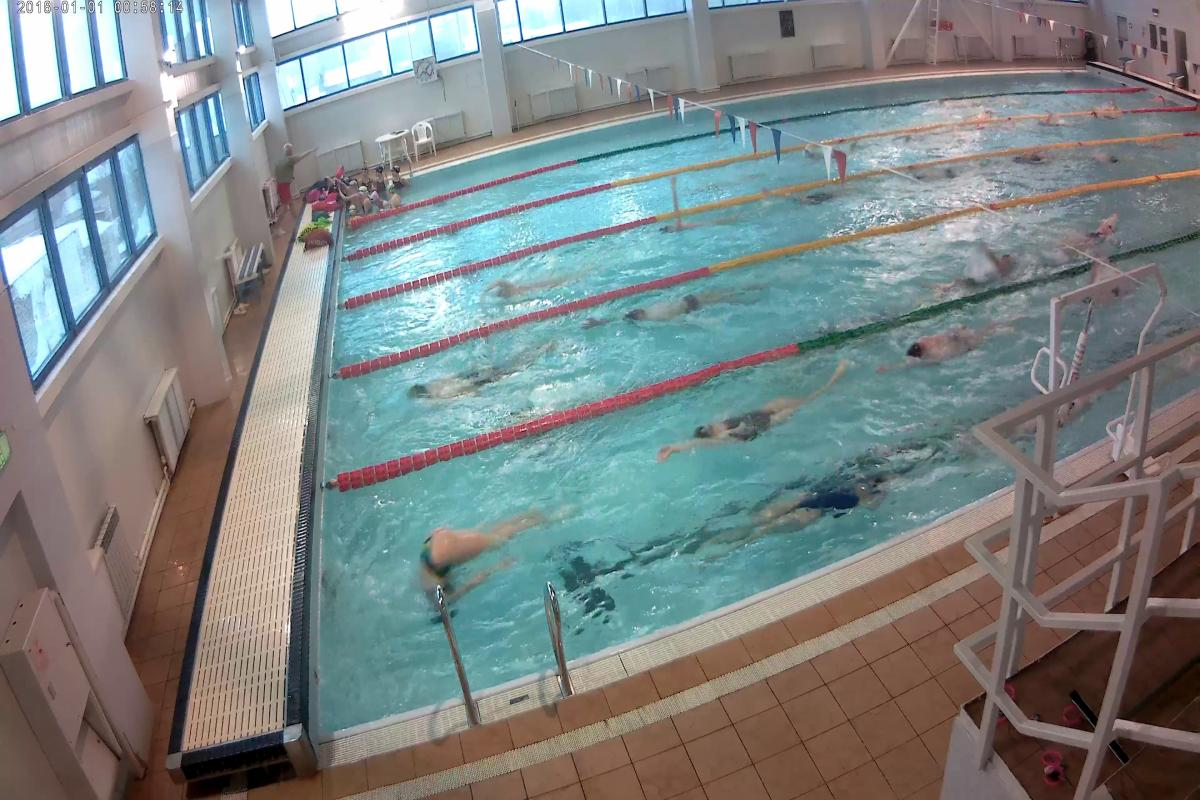swimmer: (652, 375, 851, 456), (749, 469, 920, 551), (402, 510, 538, 604), (894, 310, 1020, 369), (416, 346, 563, 393), (624, 282, 769, 325), (1055, 207, 1119, 260), (934, 252, 1021, 287), (468, 280, 594, 295), (659, 208, 734, 232), (786, 182, 845, 206), (891, 169, 960, 184), (1012, 152, 1034, 165)
